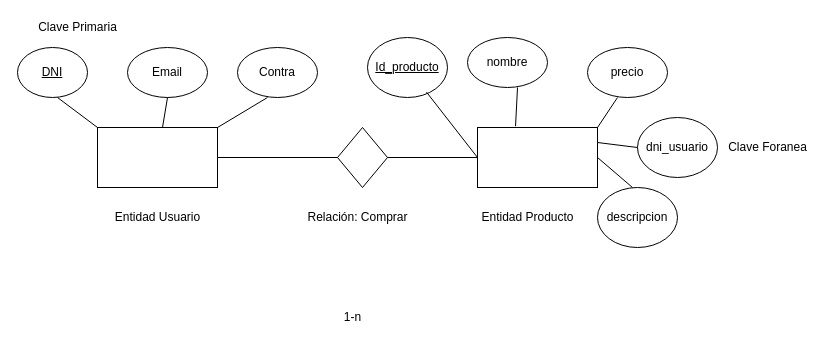
Image size: 830x344. Some labels were removed from this diagram. The centre of each missing label's shape, as x and y in pixels:
"buy" goes at point (362, 157).
"Productos" goes at point (537, 157).
"Usuarios" goes at point (157, 157).
